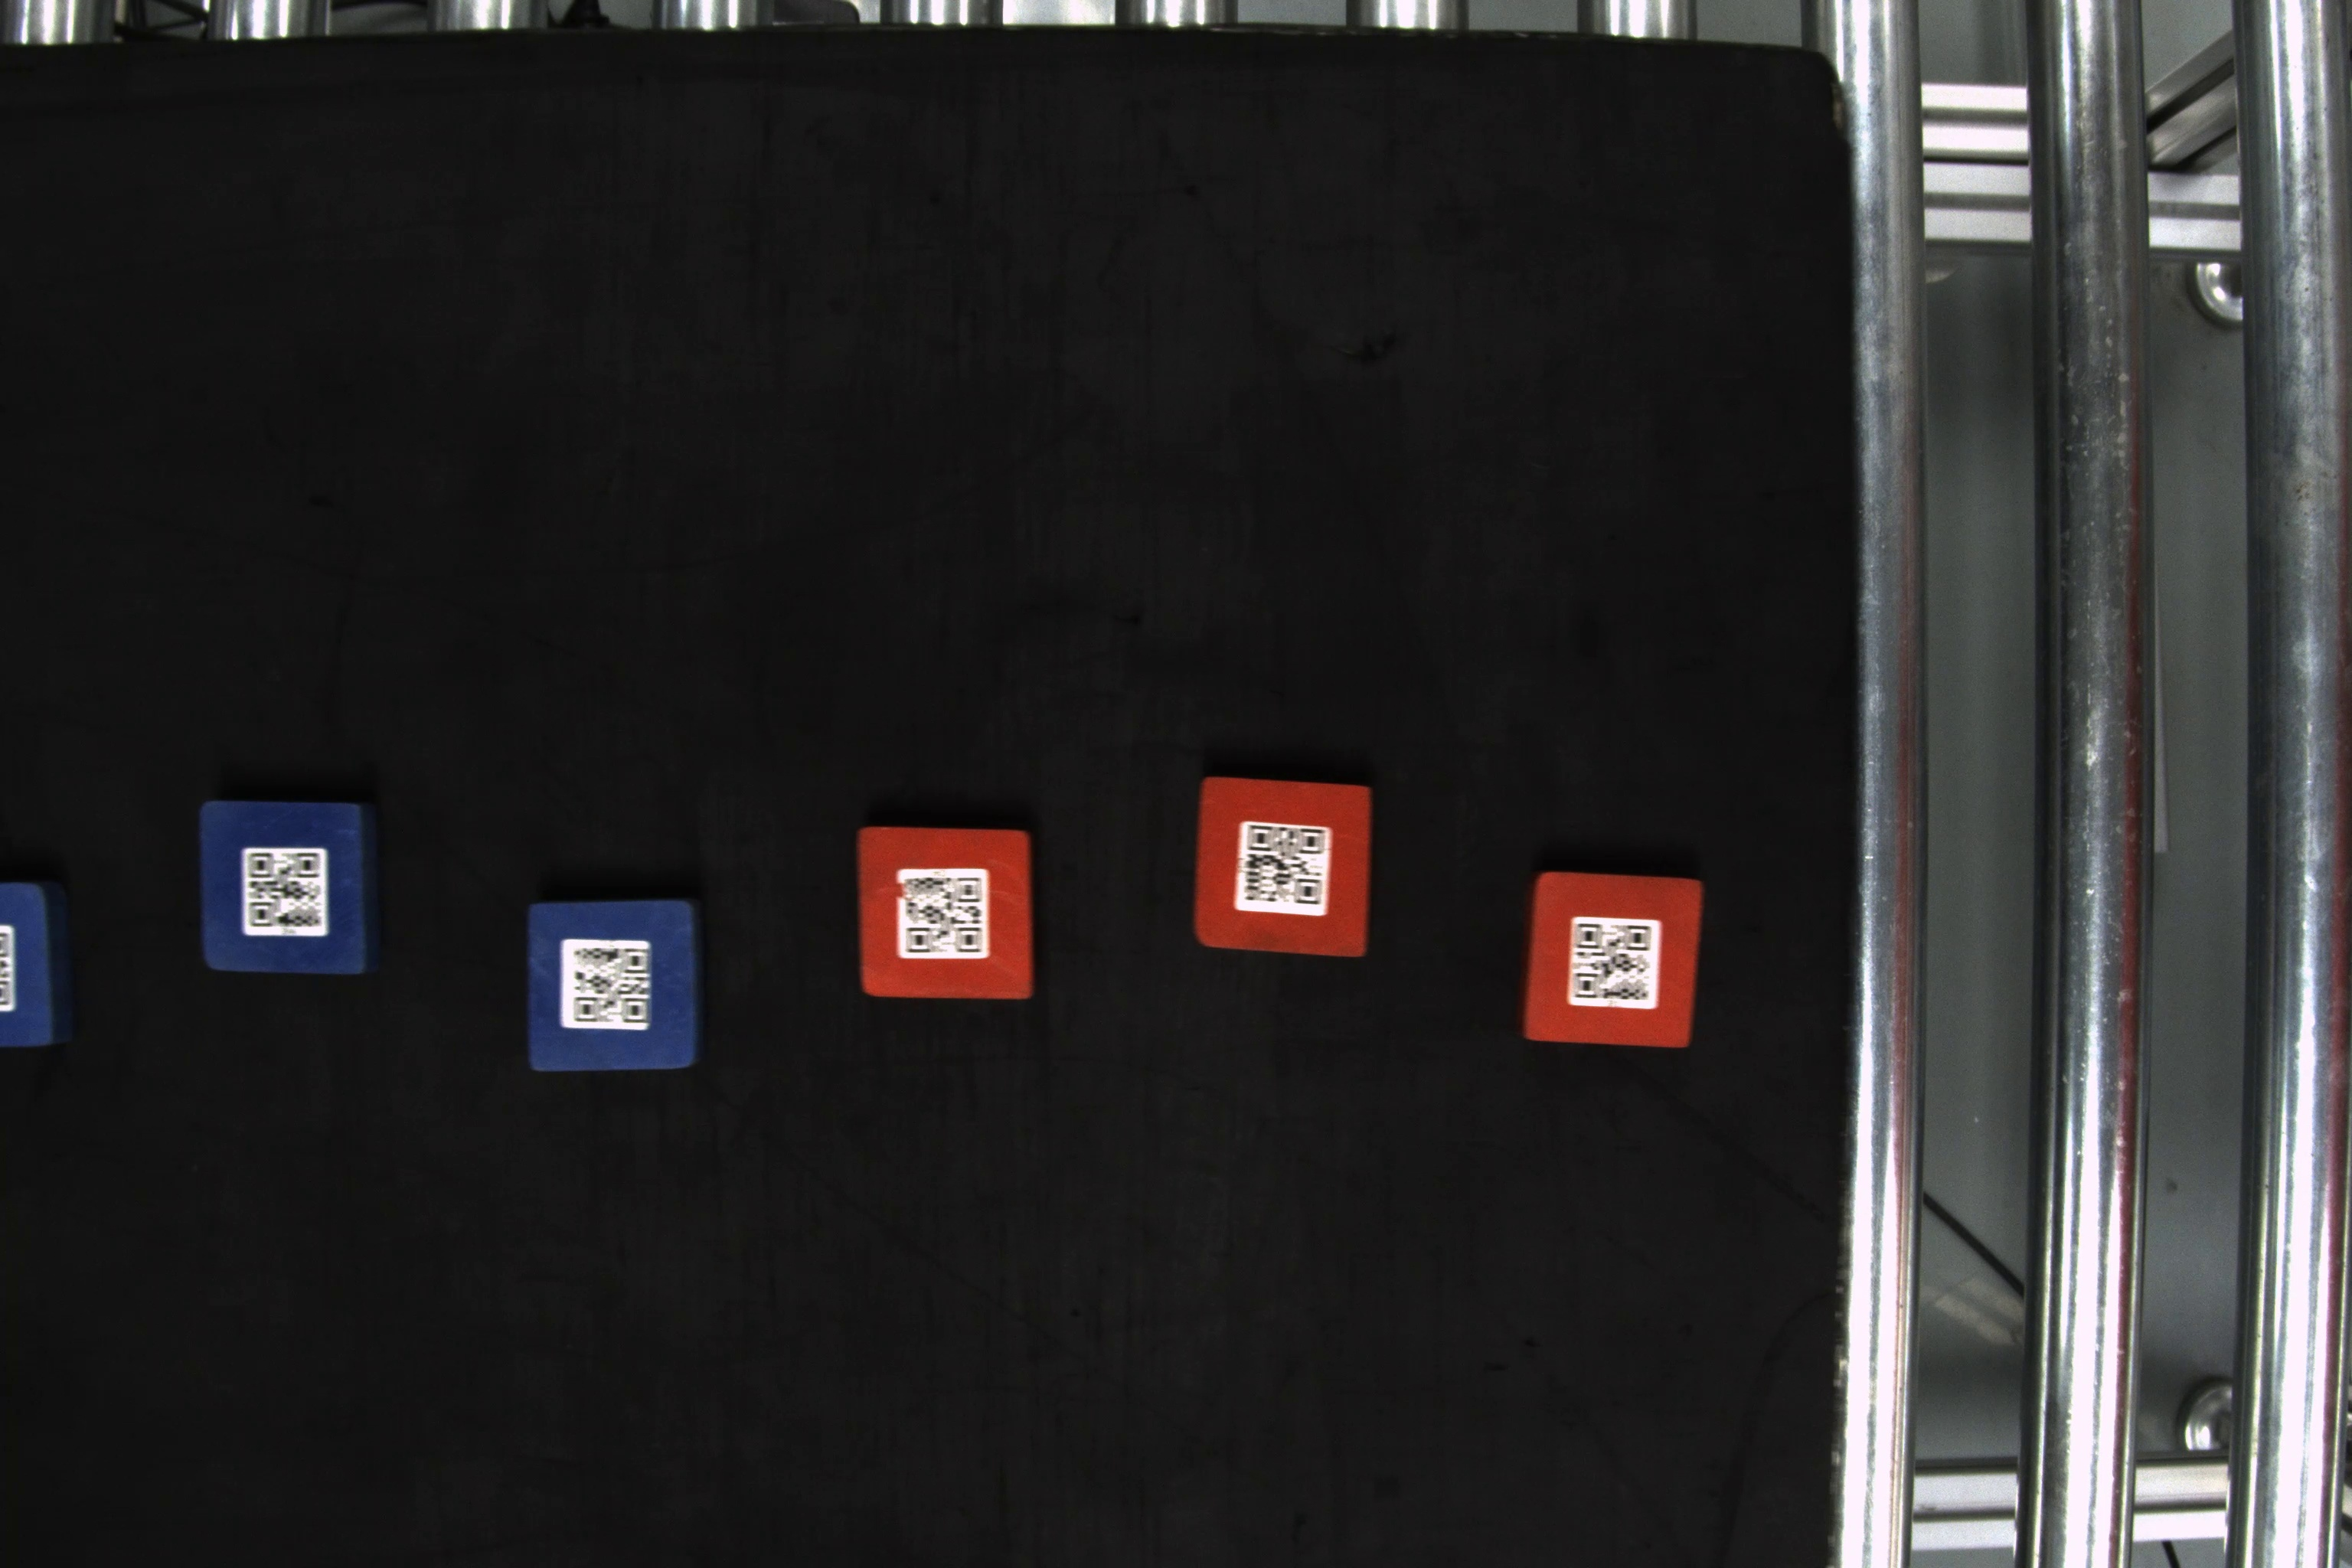wood: (192, 793, 387, 983), (1197, 768, 1379, 962), (856, 819, 1041, 1008), (1522, 864, 1704, 1048), (523, 898, 703, 1074), (2, 870, 59, 1041)
